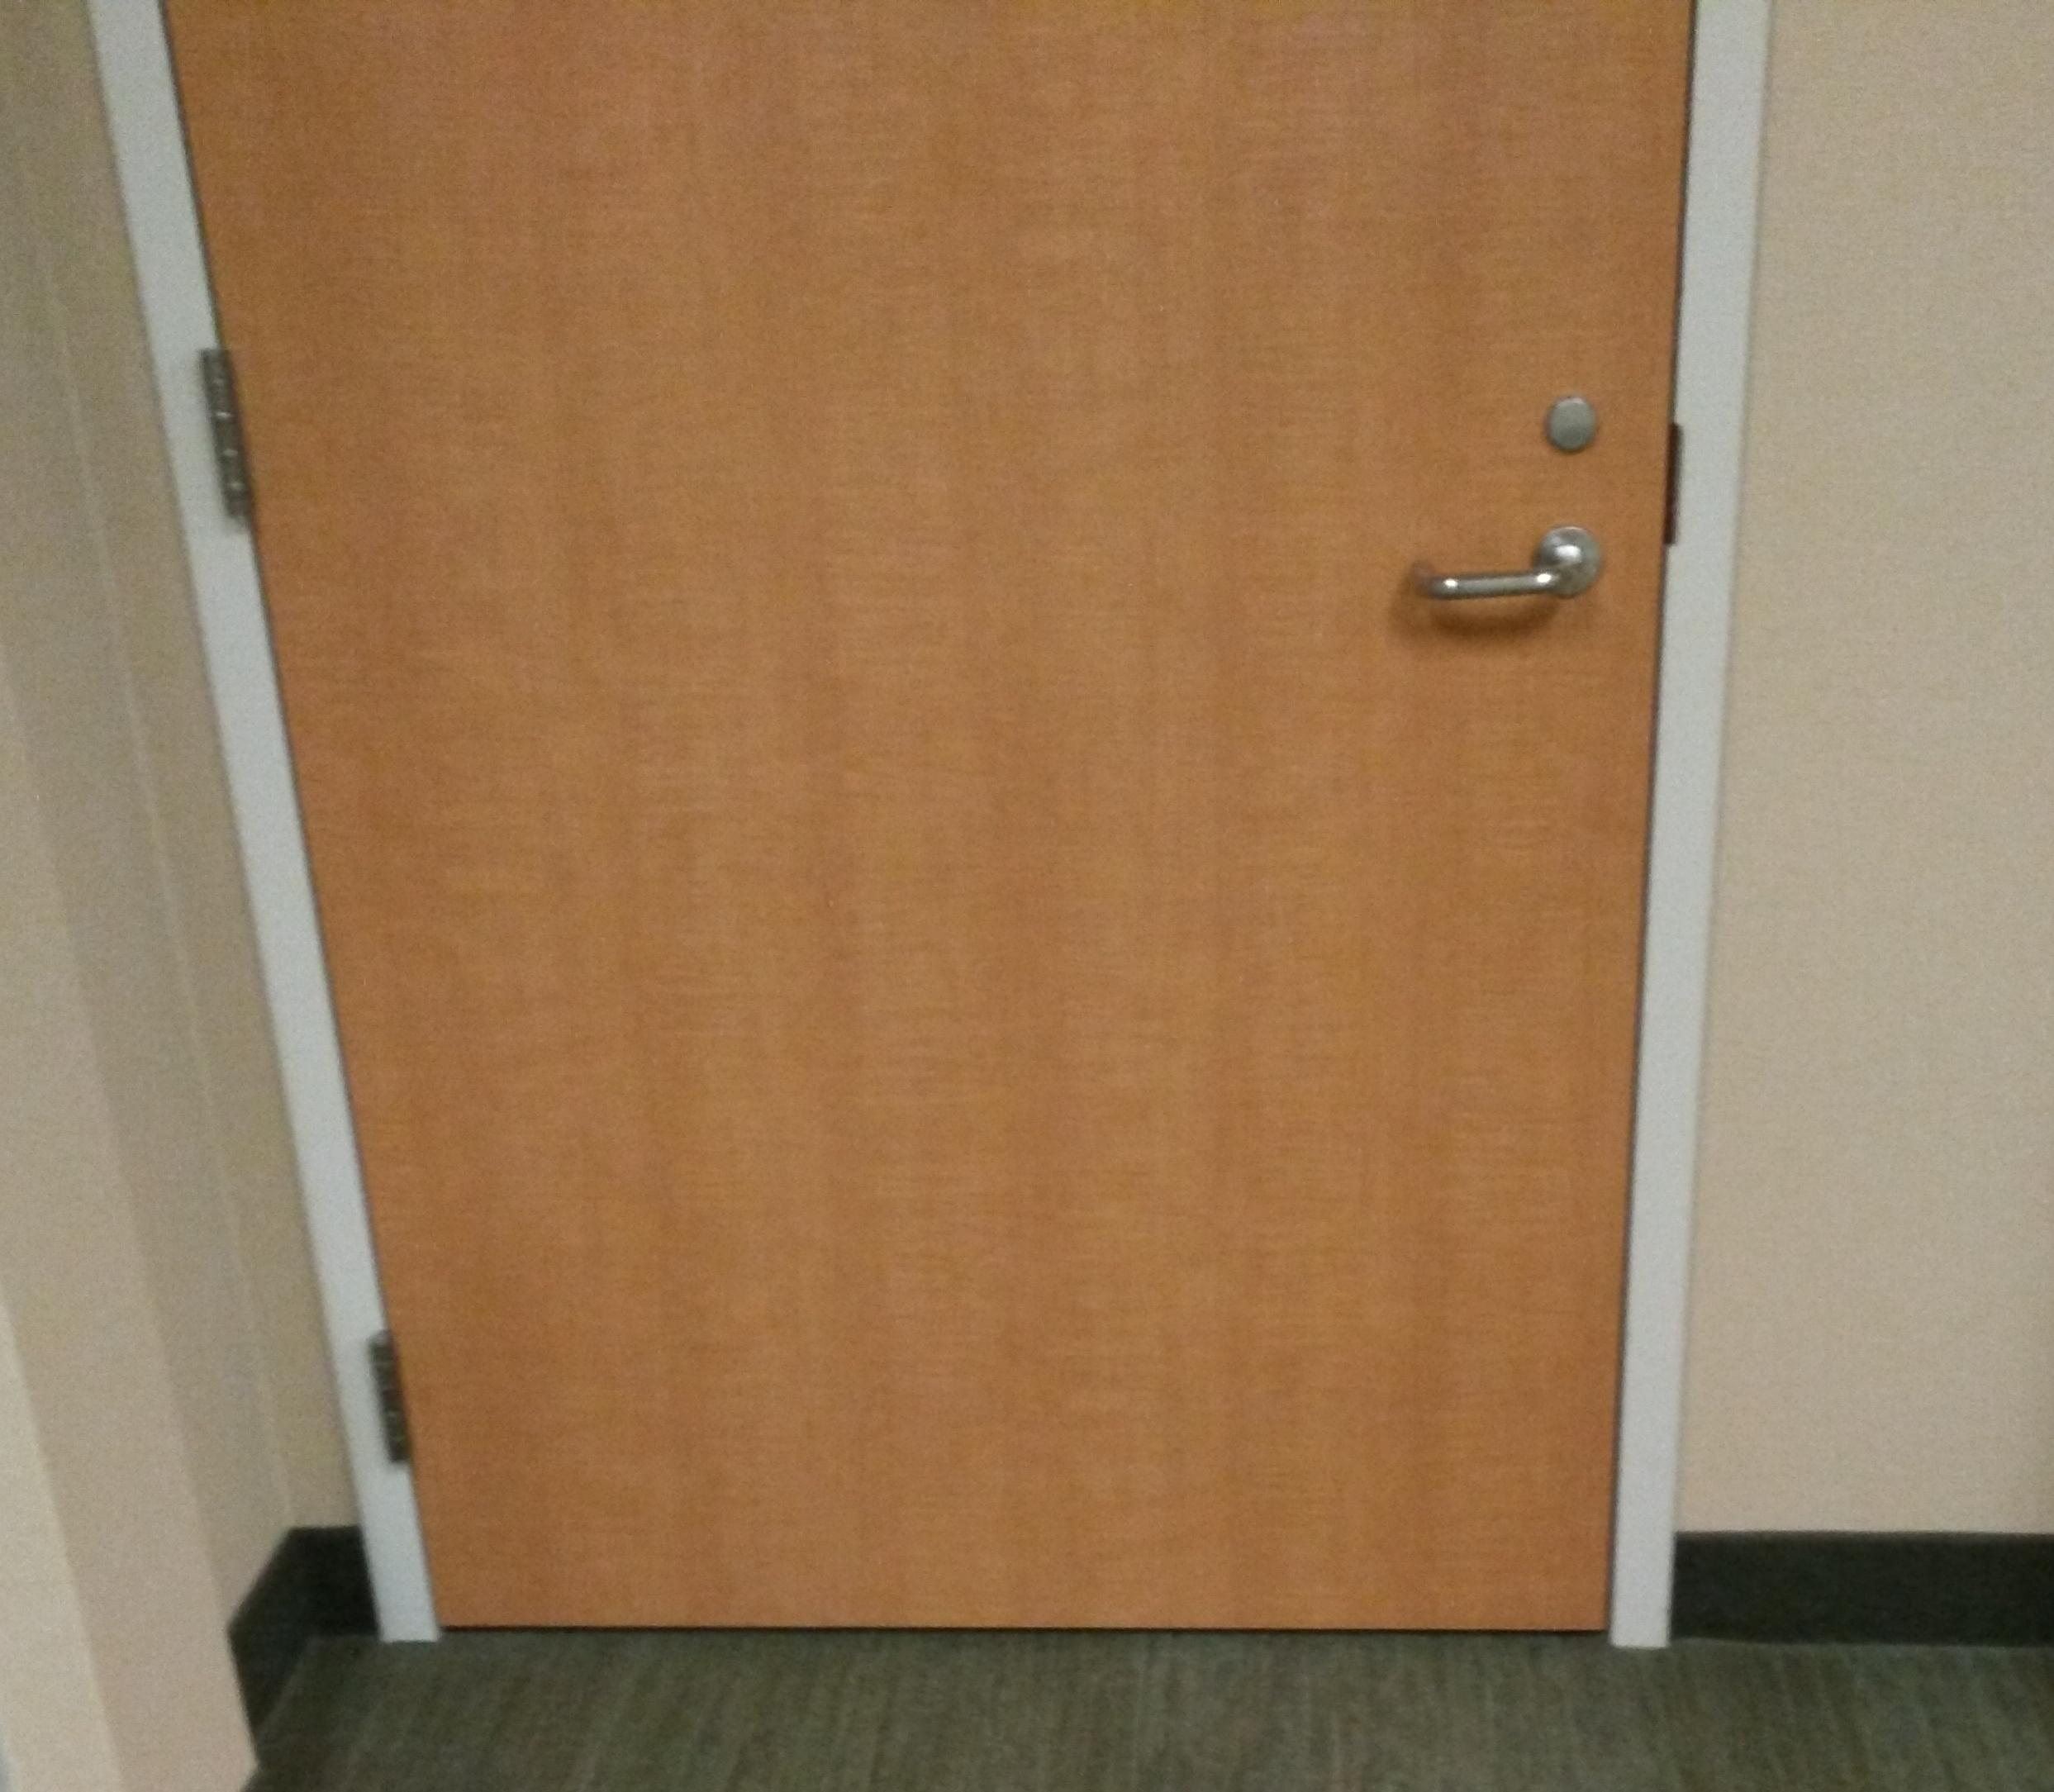door: (157, 0, 1651, 1644)
